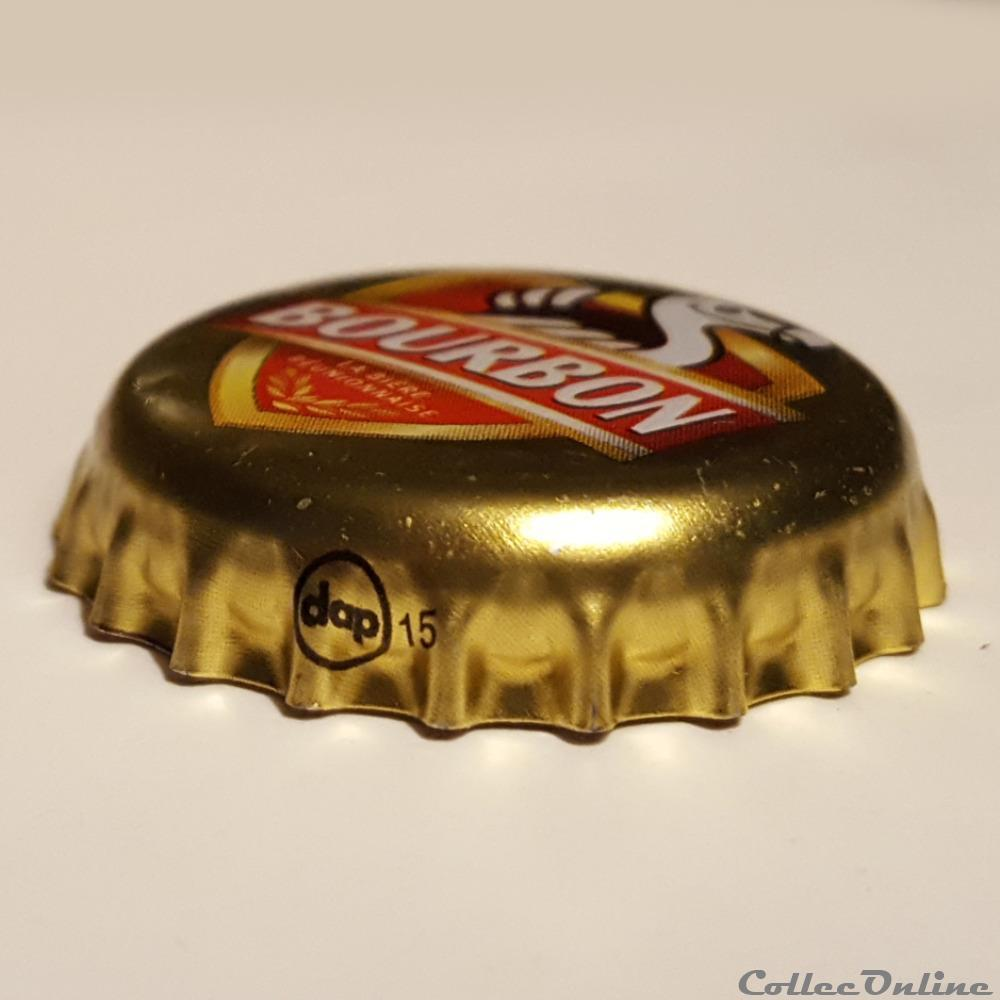metal: (49, 270, 947, 734)
